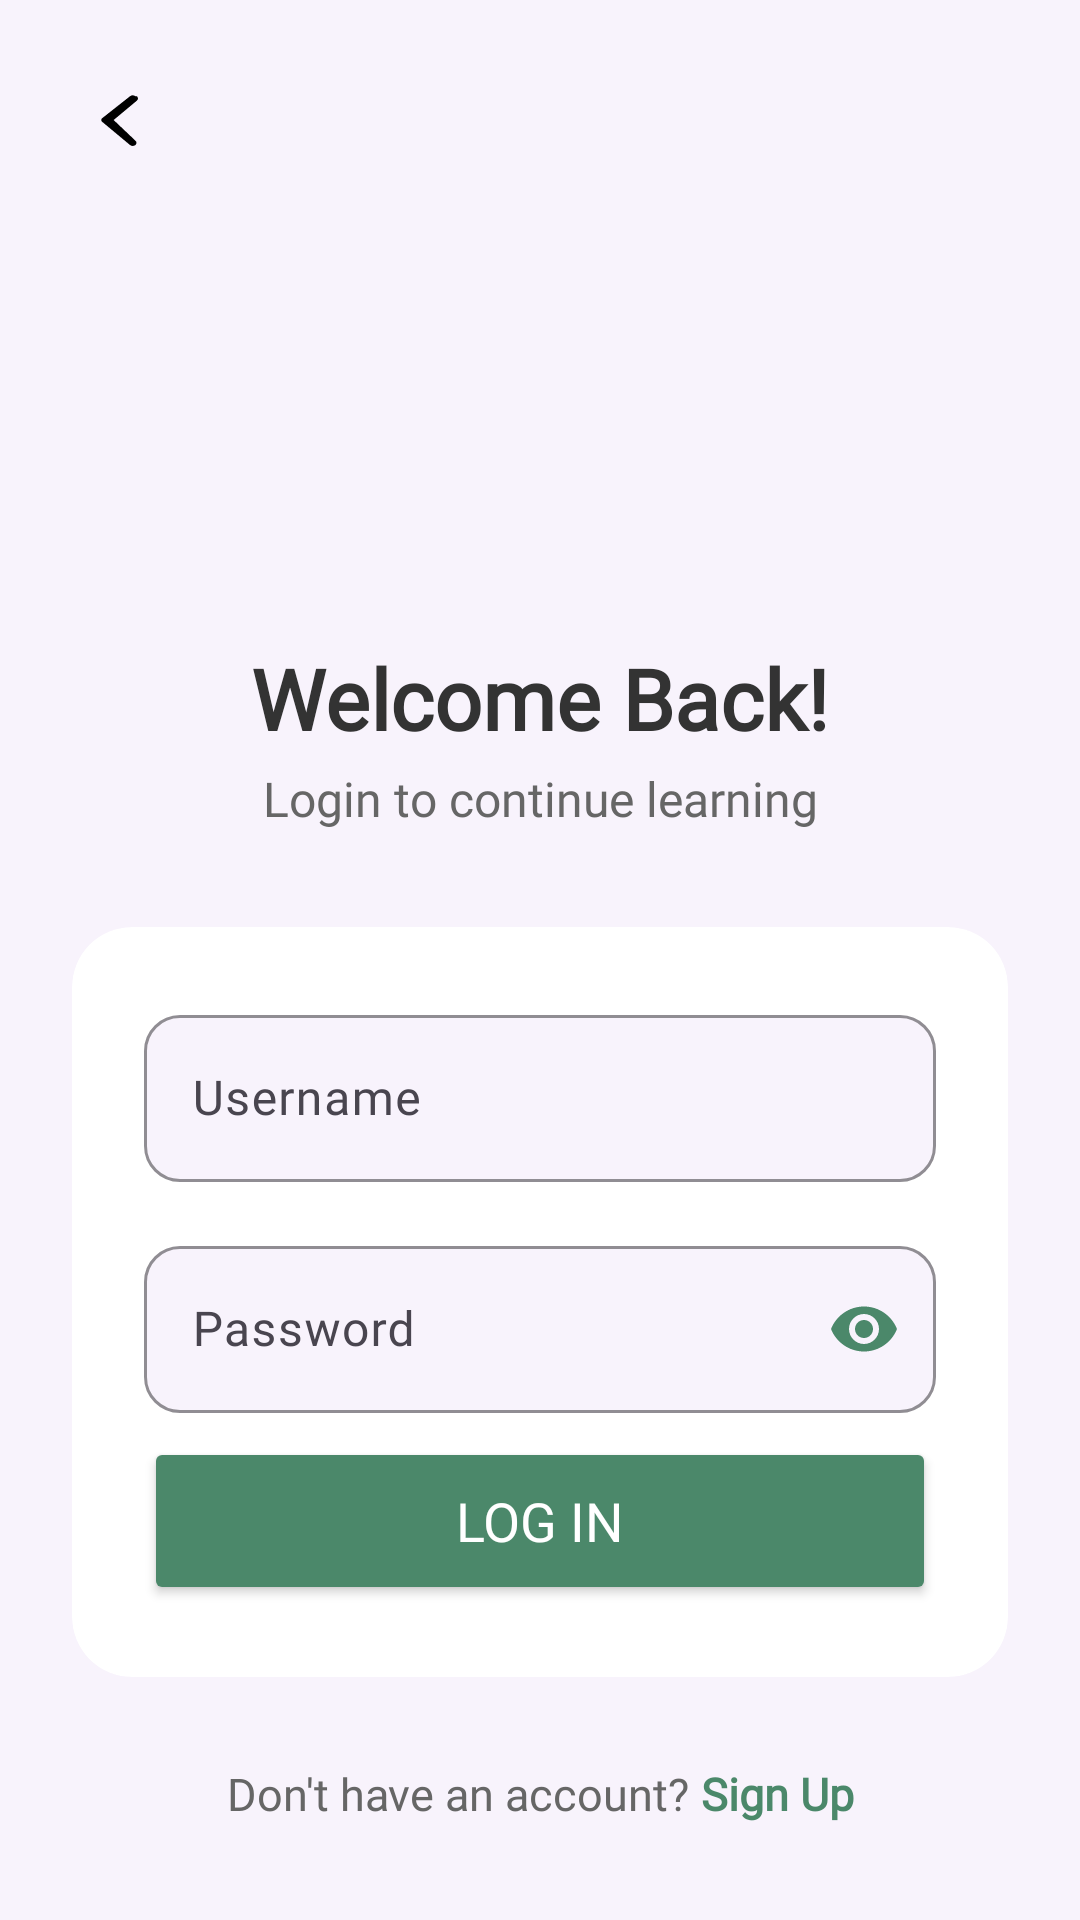

Icons on this 1080px×1920px Android screen, each with its box as box(x1, y1, x2, y2):
Go Back: box(101, 95, 138, 146)
